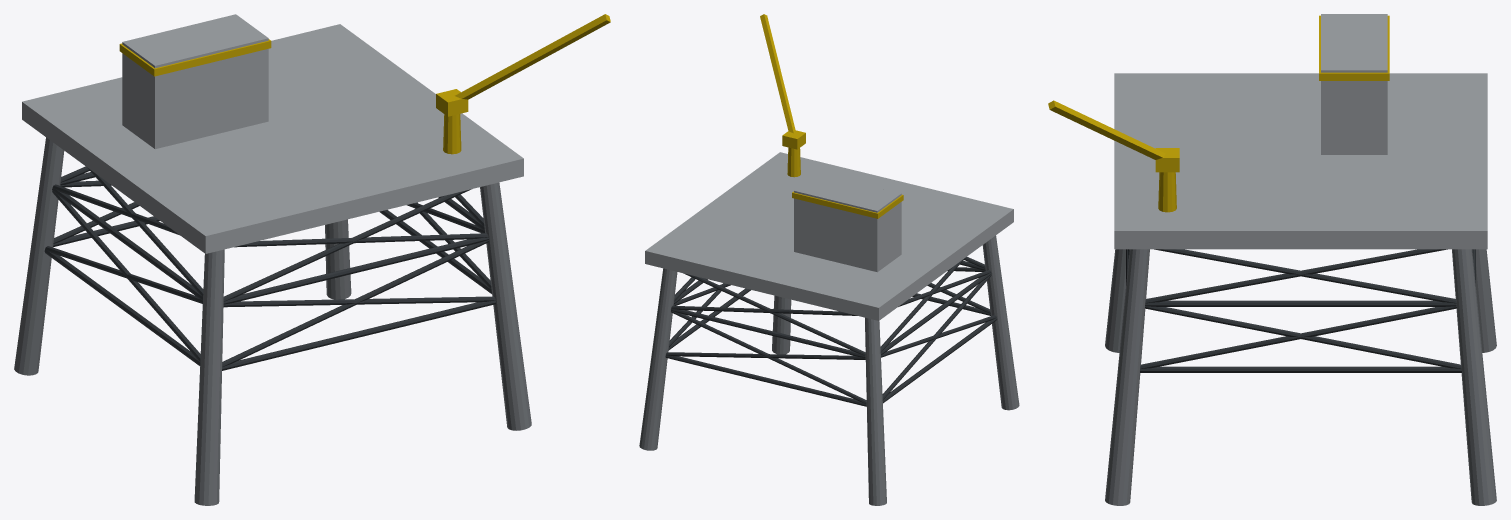
File: offshore_platform.glb
The picture shows the model from 3 angles, left to right: view 1: azimuth 30°, elevation 25°; view 2: azimuth 150°, elevation 25°; view 3: azimuth 270°, elevation 25°; orthographic projection. The views are drawn at different scales.
Parts seen in each view (by area): view 1: offshore_platform; view 2: offshore_platform; view 3: offshore_platform.
Boxes of the visible parts, bbox=[...] form: offshore_platform: bbox=[14, 14, 610, 505]; offshore_platform: bbox=[639, 14, 1019, 505]; offshore_platform: bbox=[1048, 14, 1496, 505].
Bounding box in the file's own units: 67.32 × 71.07 × 67.32.
